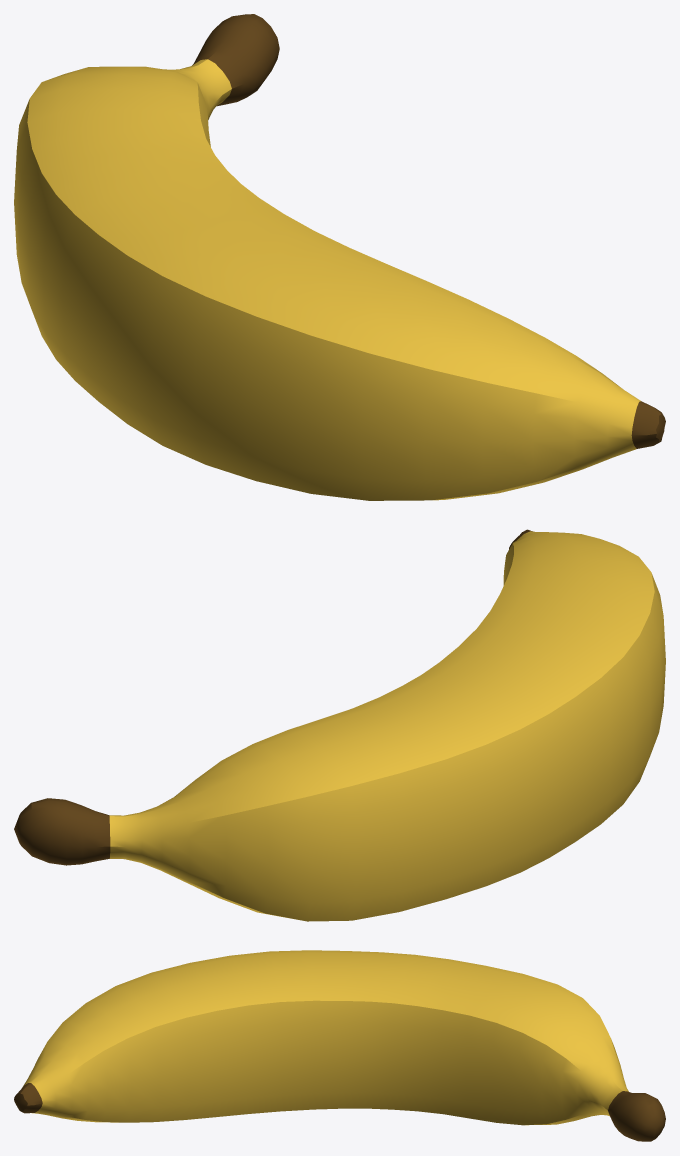
Rendered from Banana.fbx.
3 renders of one model, top to bottom at view 1: azimuth 30°, elevation 25°; view 2: azimuth 150°, elevation 25°; view 3: azimuth 270°, elevation 25°, orthographic. The views are drawn at different scales.
Parts seen in each view (by area): view 1: Cube; view 2: Cube; view 3: Cube.
Boxes of the visible parts, bbox=[...] form: Cube: bbox=[14, 14, 665, 500]; Cube: bbox=[14, 529, 665, 921]; Cube: bbox=[14, 950, 665, 1141].
Bounding box in the file's own units: 9.09 × 3.98 × 18.84.
